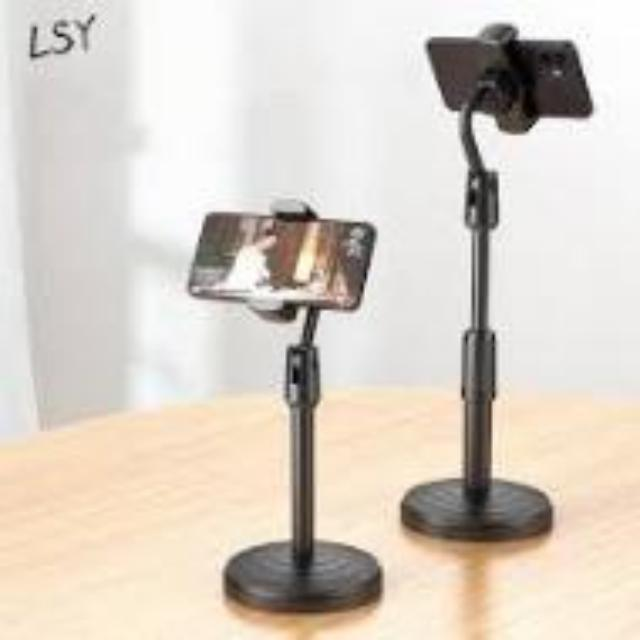phone: (195, 195, 402, 347), (411, 20, 612, 146)
